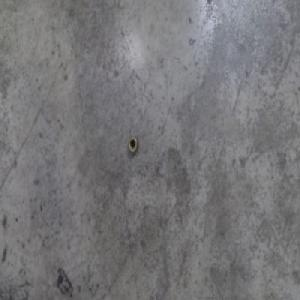Nut: (127, 134, 139, 155)
